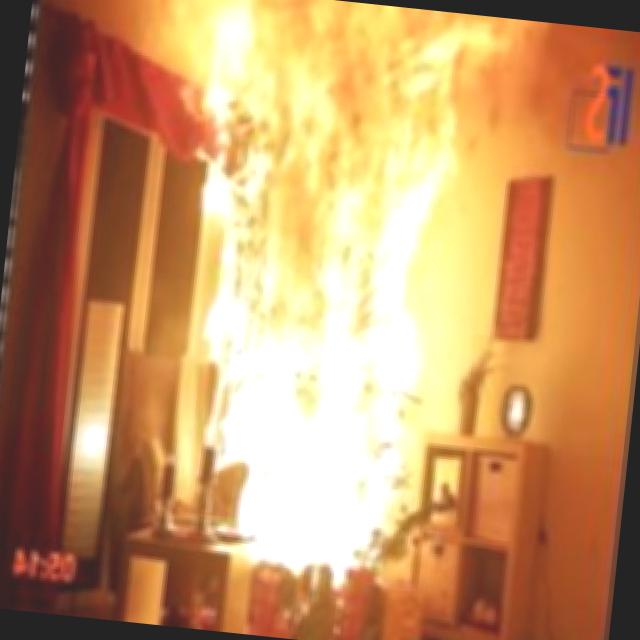fire: (123, 0, 562, 605)
